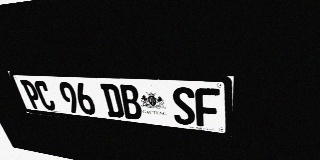6: (72, 82, 97, 115)
9: (57, 81, 82, 114)
B: (118, 84, 143, 120)
C: (33, 80, 57, 111)
D: (100, 83, 125, 118)
F: (195, 88, 220, 128)
P: (20, 80, 44, 110)
S: (171, 87, 196, 126)
